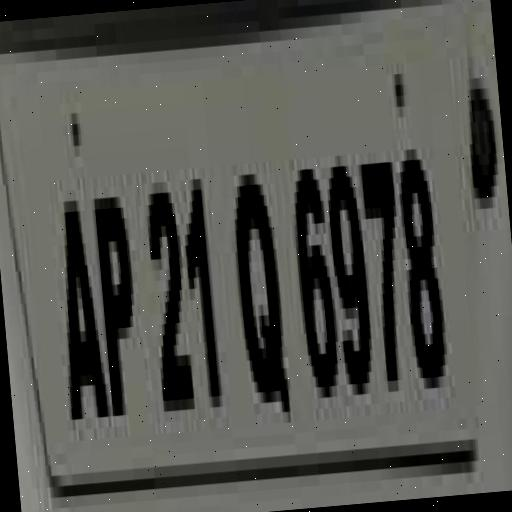number plate: (0, 3, 507, 512)
